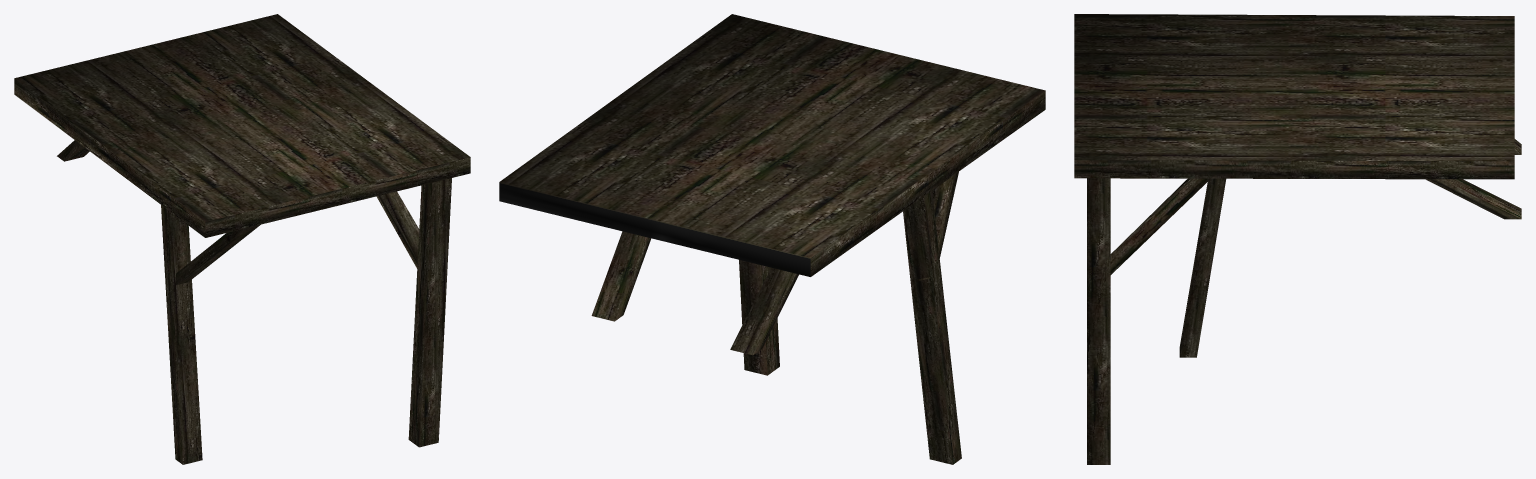
File: OC_BARONSLEDGE_V1.glb
The picture shows the model from 3 angles, left to right: view 1: azimuth 30°, elevation 25°; view 2: azimuth 150°, elevation 25°; view 3: azimuth 270°, elevation 25°; orthographic projection. The views are drawn at different scales.
Parts seen in each view (by area): view 1: Mesh; view 2: Mesh; view 3: Mesh.
Boxes of the visible parts, box(x1,y1,x2,y2) form: Mesh: box(14, 14, 470, 464); Mesh: box(499, 14, 1045, 464); Mesh: box(1074, 14, 1521, 464).
Bounding box in the file's own units: 7.48 × 7.57 × 9.6.
2 materials, 2 textured.
